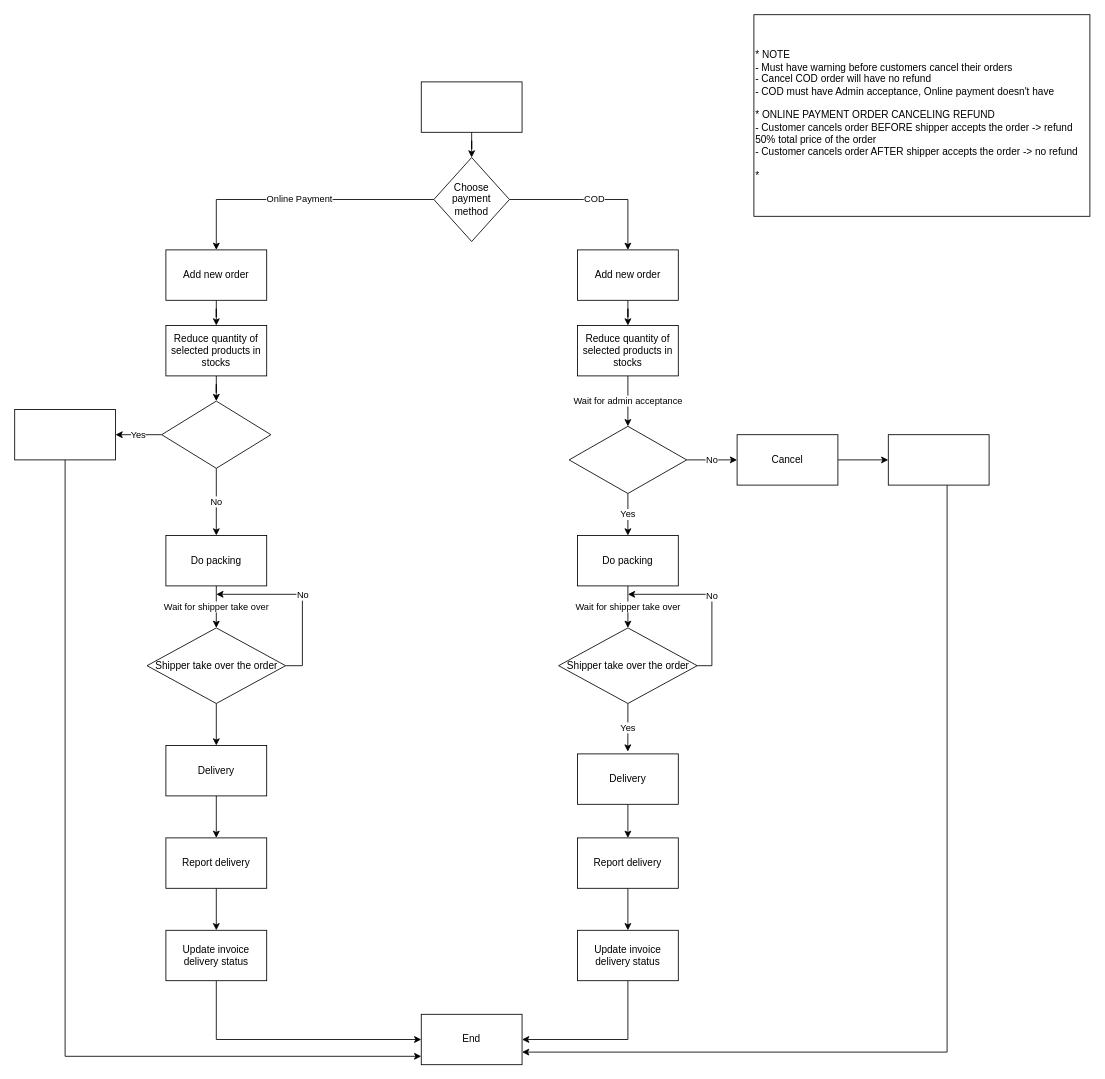
This 1105x1079 diagram has some shape labels left out. Each missing label, with the box of its shape:
Admin accept: (568, 425, 687, 494)
Customer cancel: (161, 400, 271, 468)
Customer checkout: (420, 81, 522, 132)
Refund 50% total price of the order: (14, 409, 116, 460)
Return quantity of selected products in stocks: (887, 434, 989, 485)
